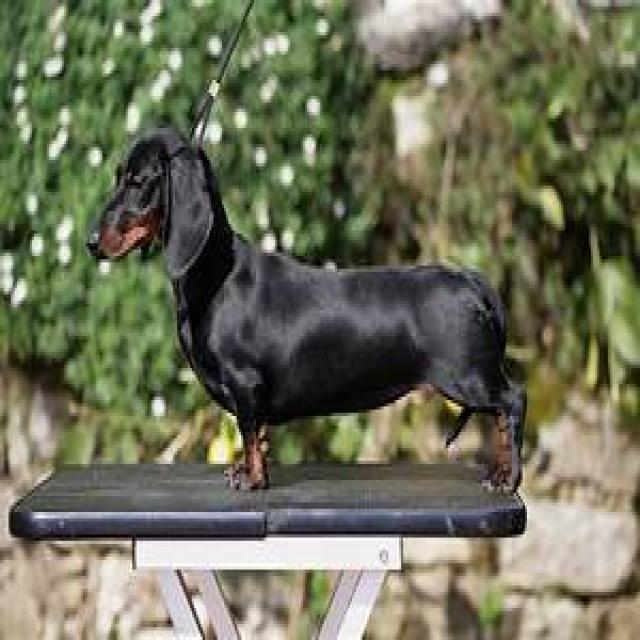dog: (87, 131, 525, 493)
